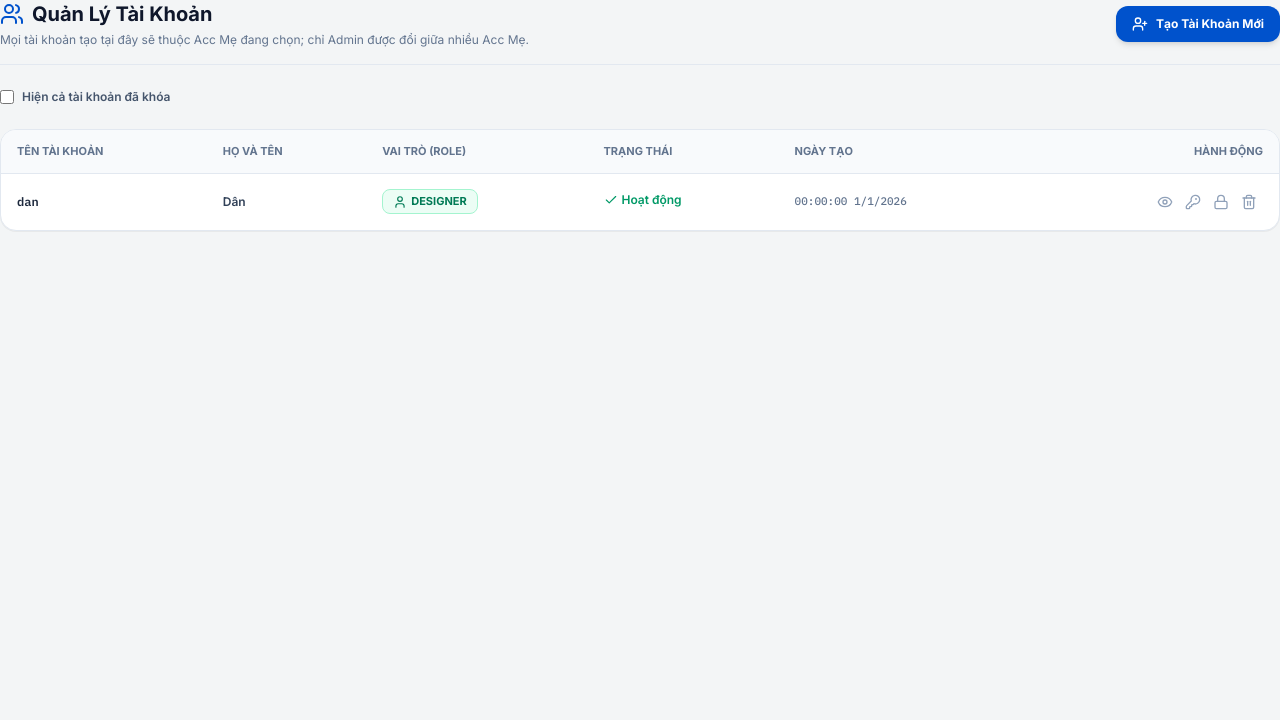
Test: UsersPage › a plain delete that succeeds (no history) closes the modal without offering "Xóa tất cả"
Expected: the text "dan" is shown, [1,173,207,230]
Click the button titled "Xóa tài khoản" at (1249, 202), box [1235,188,1263,216]
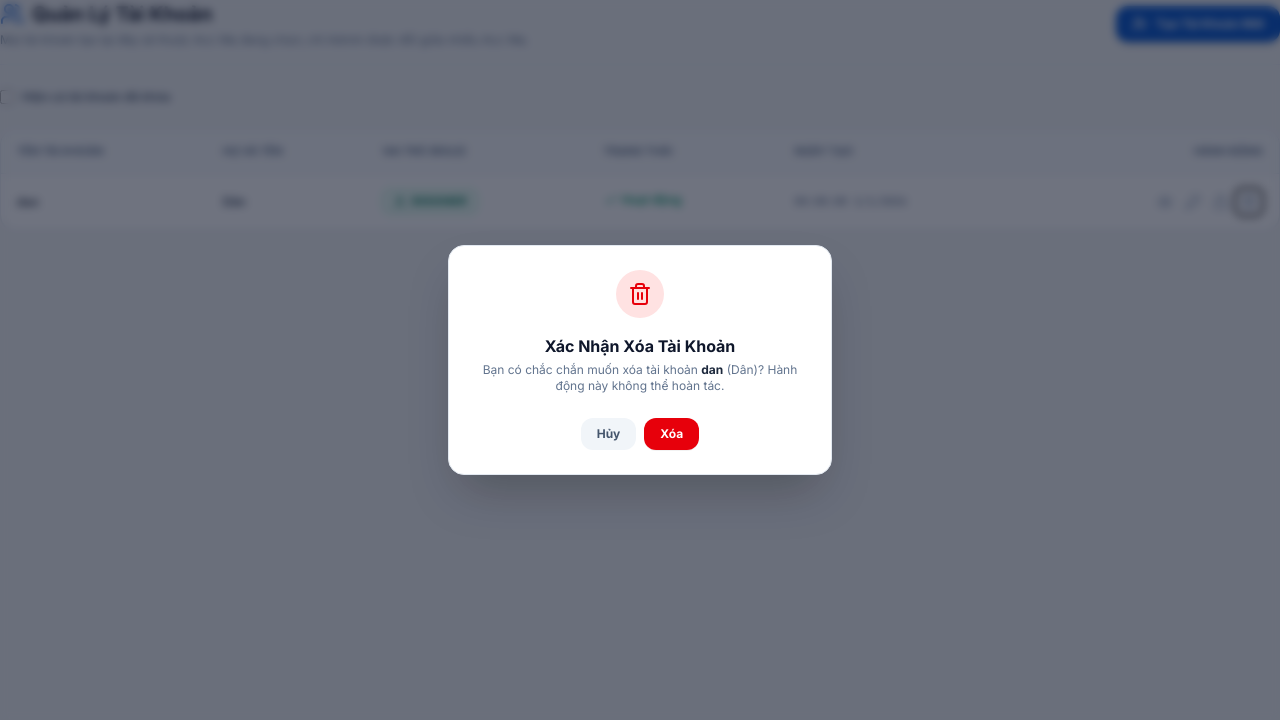
Result: the heading "Xác Nhận Xóa Tài Khoản" is shown at [545,336,735,356]
Click the button "Xóa" at (672, 434), box [644,418,699,450]
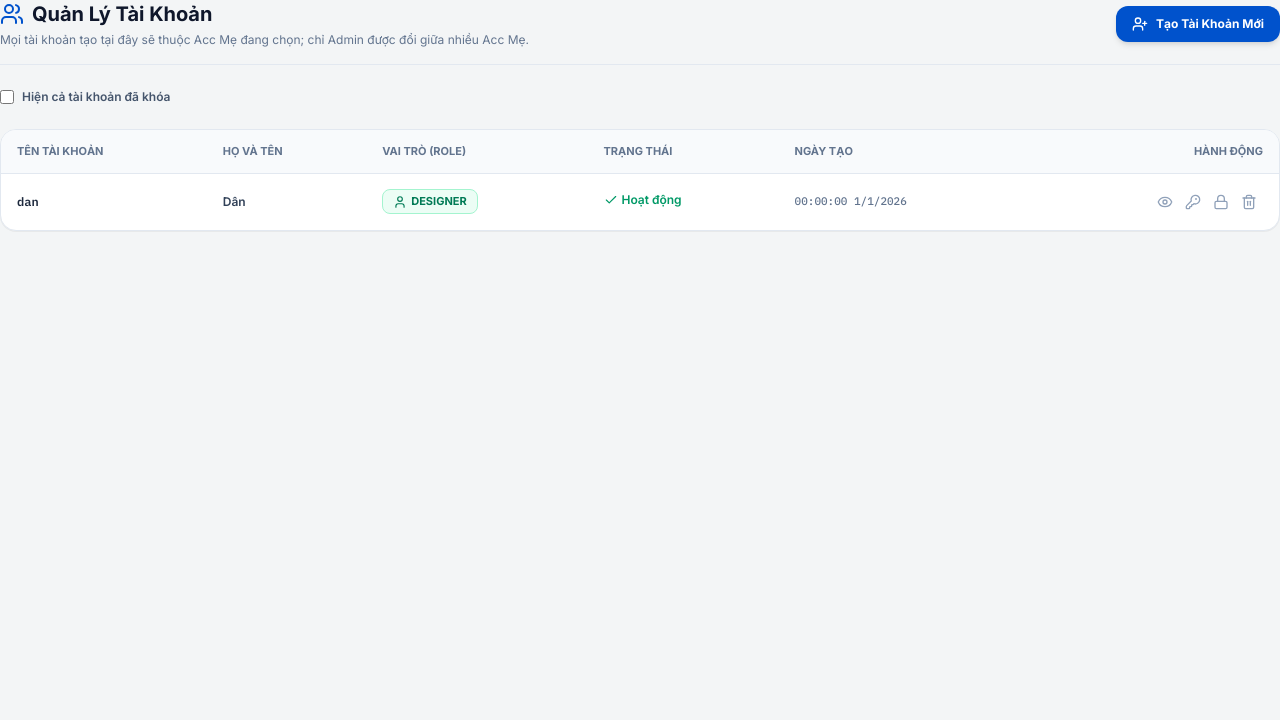
Result: the heading "Xác Nhận Xóa Tài Khoản" is gone
